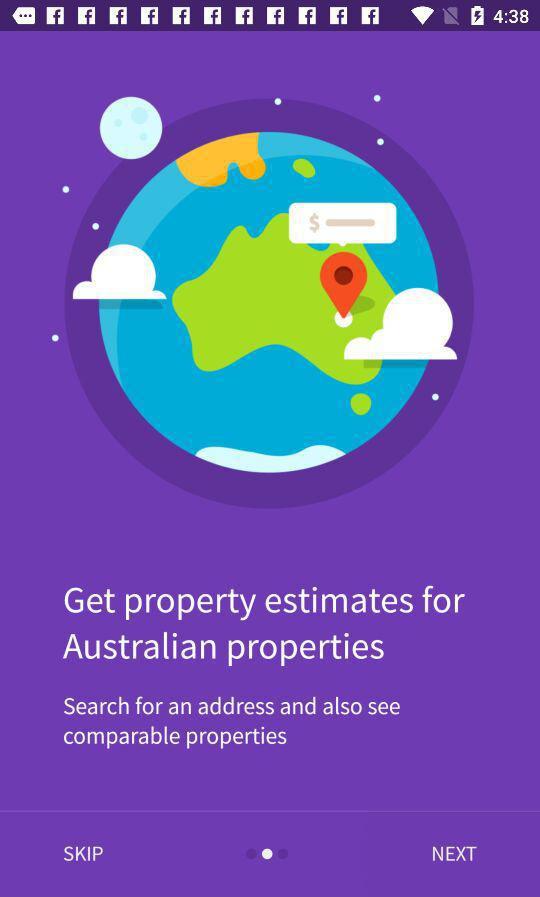Image: (51, 94, 475, 510)
PageIndicator: (246, 846, 289, 861)
Text: (61, 587, 466, 667), (61, 695, 402, 751), (432, 845, 478, 863), (64, 845, 105, 863)
UpperTaskBar: (1, 1, 540, 33)
